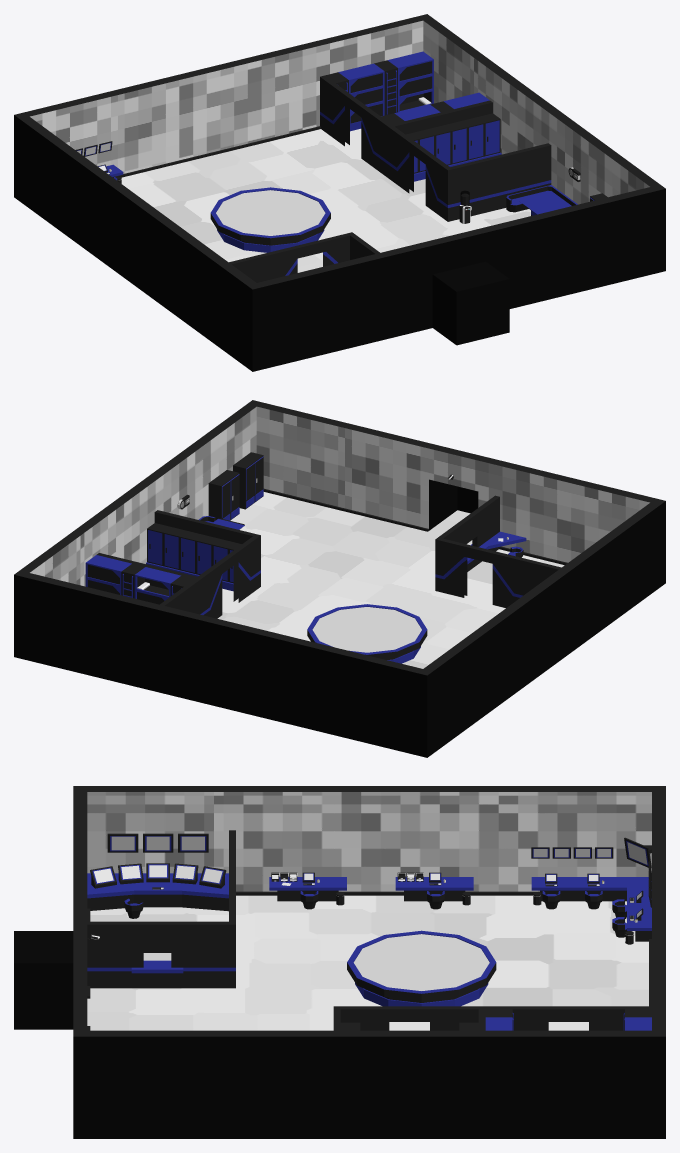
File: Security_Room_1x1x1.fbx
The picture shows the model from 3 angles, top to bottom: view 1: azimuth 30°, elevation 25°; view 2: azimuth 150°, elevation 25°; view 3: azimuth 270°, elevation 25°; orthographic projection. The views are drawn at different scales.
Visible parts, largest first — view 1: Security_Room_1x1x1; view 2: Security_Room_1x1x1; view 3: Security_Room_1x1x1.
Boxes of the visible parts, x1,y1,x2,y2 form: Security_Room_1x1x1: [14, 14, 665, 371]; Security_Room_1x1x1: [14, 400, 665, 757]; Security_Room_1x1x1: [14, 786, 665, 1138].
Bounding box in the file's own units: 42 × 46.2 × 8.
